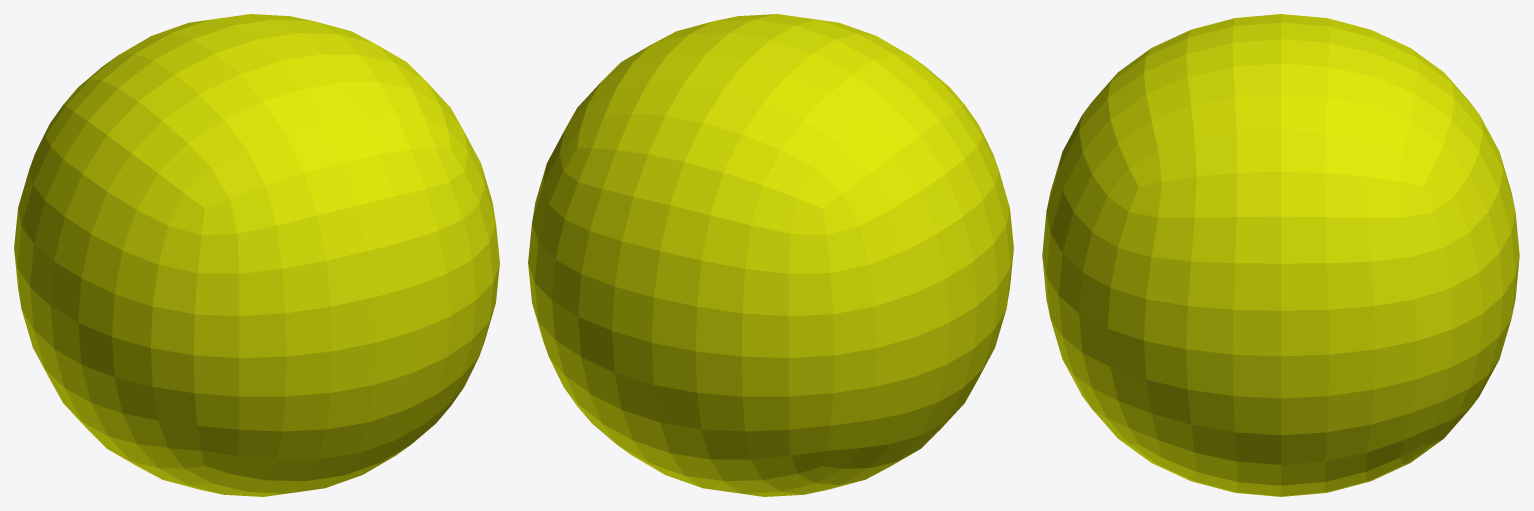
File: estrattoresx.glb
3 renders of one model, left to right at view 1: azimuth 30°, elevation 25°; view 2: azimuth 150°, elevation 25°; view 3: azimuth 270°, elevation 25°, orthographic.
Parts seen in each view (by area): view 1: estrattoresx; view 2: estrattoresx; view 3: estrattoresx.
Boxes of the visible parts, left/top/right/bottom form: estrattoresx: left=14, top=14, right=499, bottom=496; estrattoresx: left=528, top=14, right=1013, bottom=496; estrattoresx: left=1042, top=14, right=1519, bottom=496.
Size of the model in its own units: 0.0042 by 0.0042 by 0.0042.
